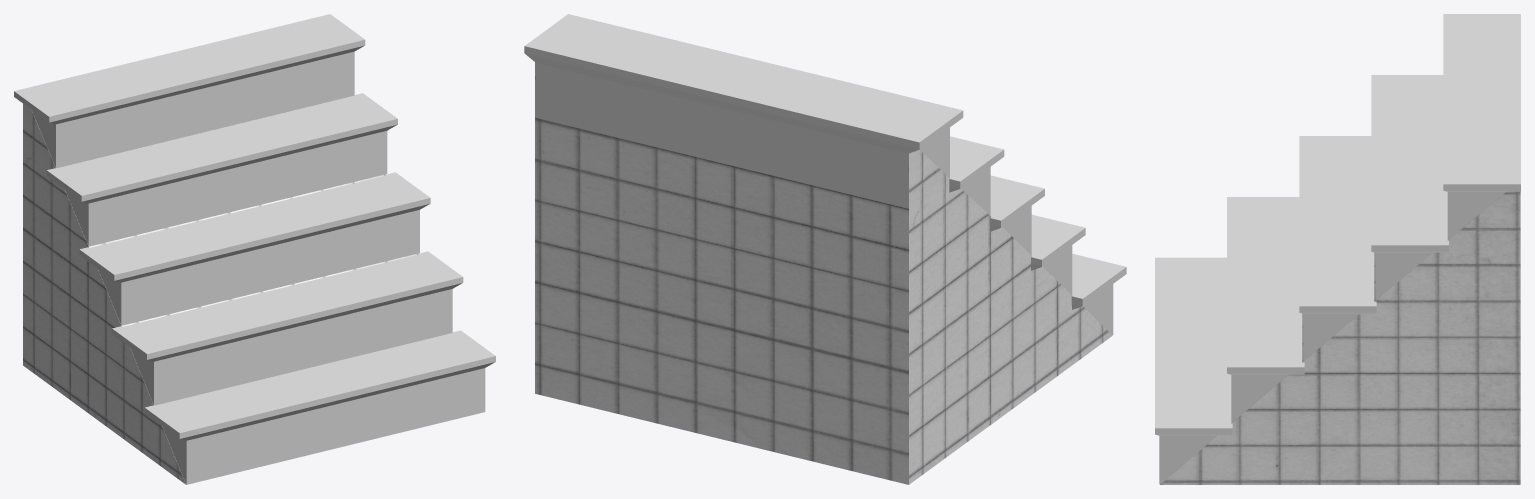
File: den_stairs_steps.fbx
3 views of the same model, side by side, from view 1: azimuth 30°, elevation 25°; view 2: azimuth 150°, elevation 25°; view 3: azimuth 270°, elevation 25° (orthographic). The views are drawn at different scales.
Visible parts, largest first — view 1: Cube.018, Cube; view 2: Cube, Cube.018; view 3: Cube.018, Cube.
Part boxes in pixels (x1=…): Cube.018: x1=14, y1=14, x2=495, y2=484; Cube: x1=23, y1=95, x2=420, y2=484; Cube: x1=535, y1=62, x2=1112, y2=484; Cube.018: x1=524, y1=14, x2=1126, y2=334; Cube.018: x1=1155, y1=14, x2=1520, y2=484; Cube: x1=1160, y1=191, x2=1520, y2=484.
Bounding box in the file's own units: 211 × 177 × 192.
